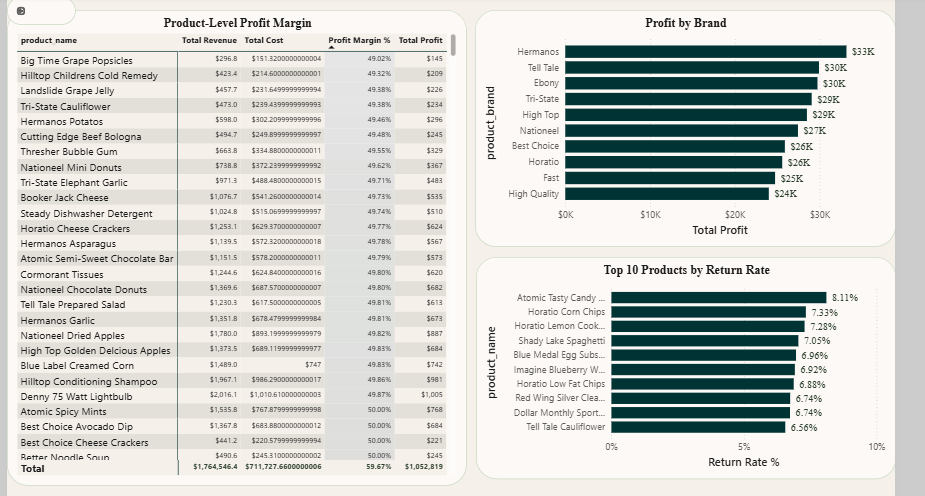

This screenshot's page, from the dashboard's own definition file:
{"tool":"powerbi","page":{"name":"Products","canvas":[1280,720],"ordinal":1},"visuals":[{"type":"clusteredBarChart","title":"Profit by Brand","fields":{"Y":["Transactions.Total Profit"],"Category":["MavenMarket_Products.product_brand"]},"box":[674.6,19,605.9,341],"z":0},{"type":"pivotTable","title":"Product-Level Profit Margin","fields":{"Rows":["MavenMarket_Products.product_name"],"Values":["Transactions.Total Sales","Transactions.Total Cost","Transactions.Profit Margin","Transactions.Total Profit"]},"box":[0,18.7,662.4,685.4],"z":1},{"type":"clusteredBarChart","title":"Top 10 Products by Return Rate","fields":{"Category":["MavenMarket_Products.product_name"],"Y":["Transactions.Return Rate"]},"box":[675.4,374.4,604.8,319.7],"z":2},{"type":"actionButton","box":[0,0,99.4,40.3],"z":3}]}

Visuals, with their boxes on the page's 1280x720 design canvas (x1, y1, x2, y2). These are canvas units, not pixel positions in the 925x496 screenshot, which may show the page scaled, cropped or inside an application window:
"Profit by Brand" clusteredBarChart: x1=675 y1=19 x2=1280 y2=360
"Product-Level Profit Margin" pivotTable: x1=0 y1=19 x2=662 y2=704
"Top 10 Products by Return Rate" clusteredBarChart: x1=675 y1=374 x2=1280 y2=694
actionButton: x1=0 y1=0 x2=99 y2=40
